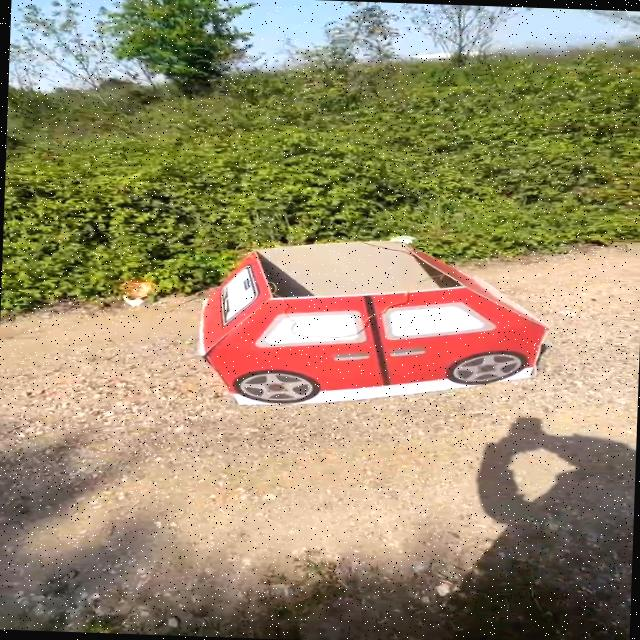red_car: (178, 225, 579, 427)
